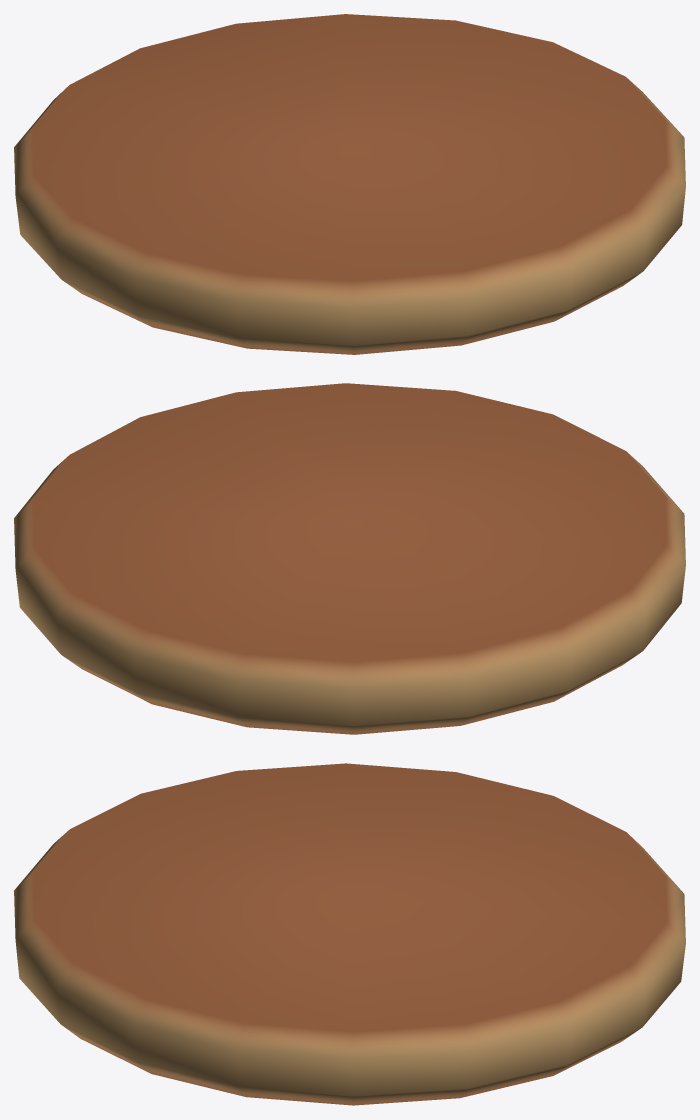
Rendered from consumables-junkfood-pancake_v4.glb.
3 renders of one model, top to bottom at view 1: azimuth 30°, elevation 25°; view 2: azimuth 150°, elevation 25°; view 3: azimuth 270°, elevation 25°, orthographic.
Parts seen in each view (by area): view 1: Pancake_v4; view 2: Pancake_v4; view 3: Pancake_v4.
Part boxes in pixels (left/top/right/bottom): Pancake_v4: left=14, top=14, right=685, bottom=354; Pancake_v4: left=14, top=383, right=685, bottom=734; Pancake_v4: left=14, top=763, right=685, bottom=1105.
Bounding box in the file's own units: 0.1019 × 0.0139 × 0.1006.
